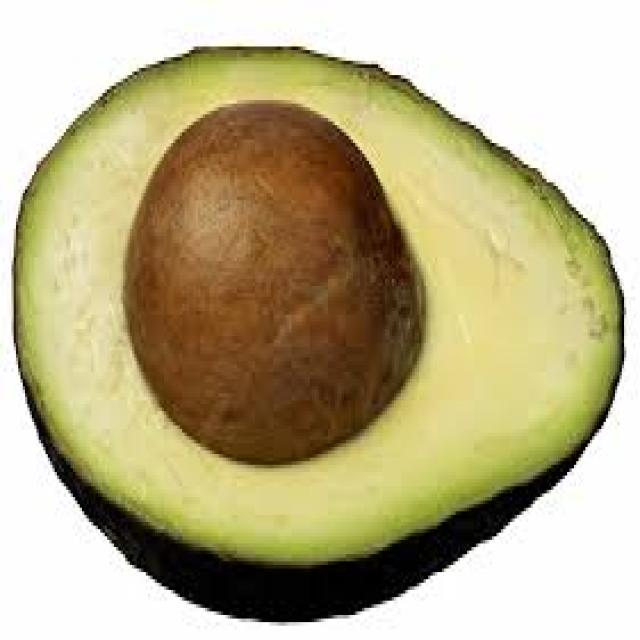avocado: (7, 18, 634, 622)
